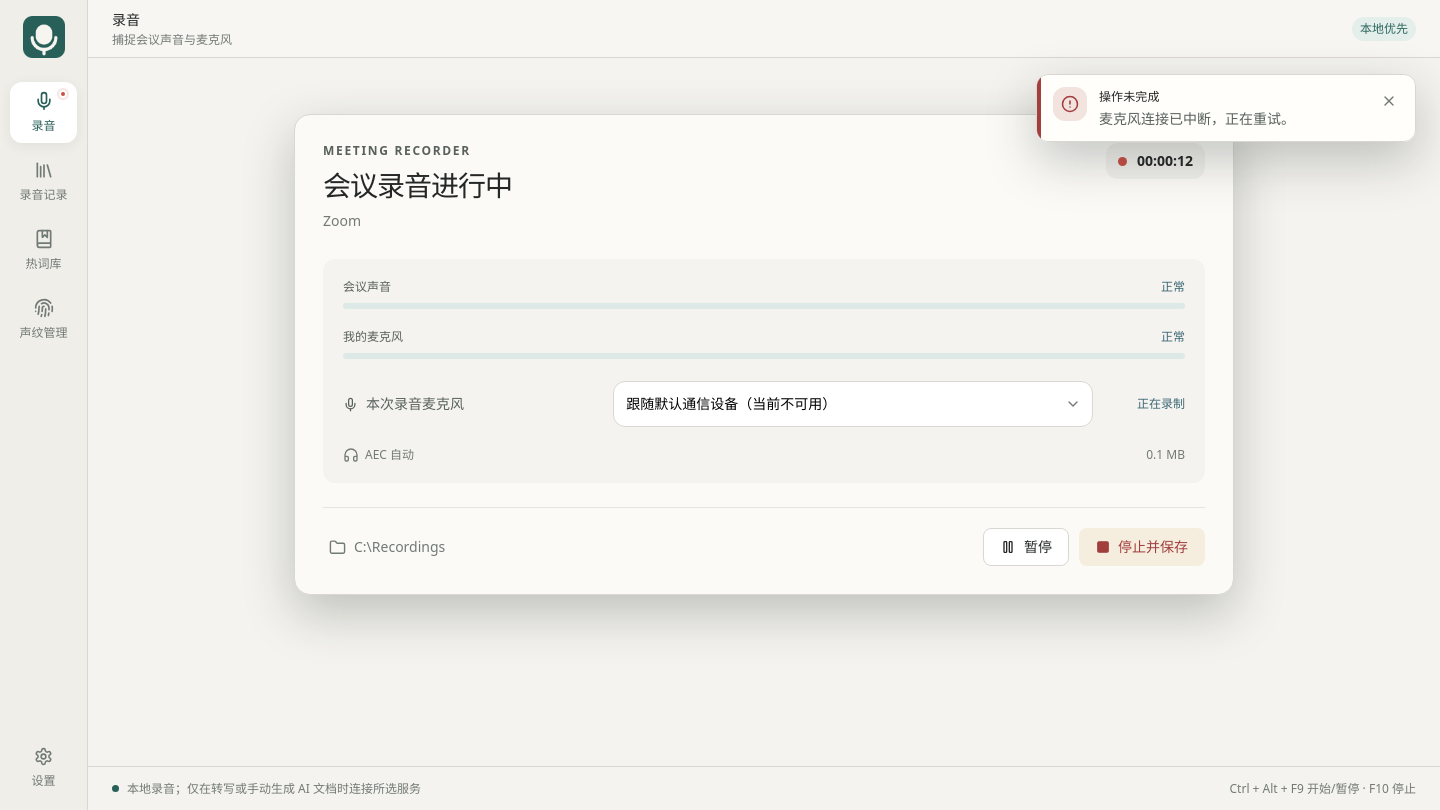
Test case: Nota UI states › shows and deduplicates persistent recording faults received at runtime
The image size is (1440, 810).
Expected: the message shows "麦克风连接已中断，正在重试。", [1099,109,1295,128]
Expected: the text "麦克风连接已中断，正在重试。" is shown once, [1099,109,1295,128]
Click the button named "关闭通知".
click(1389, 101)  # box [1375,87,1403,115]
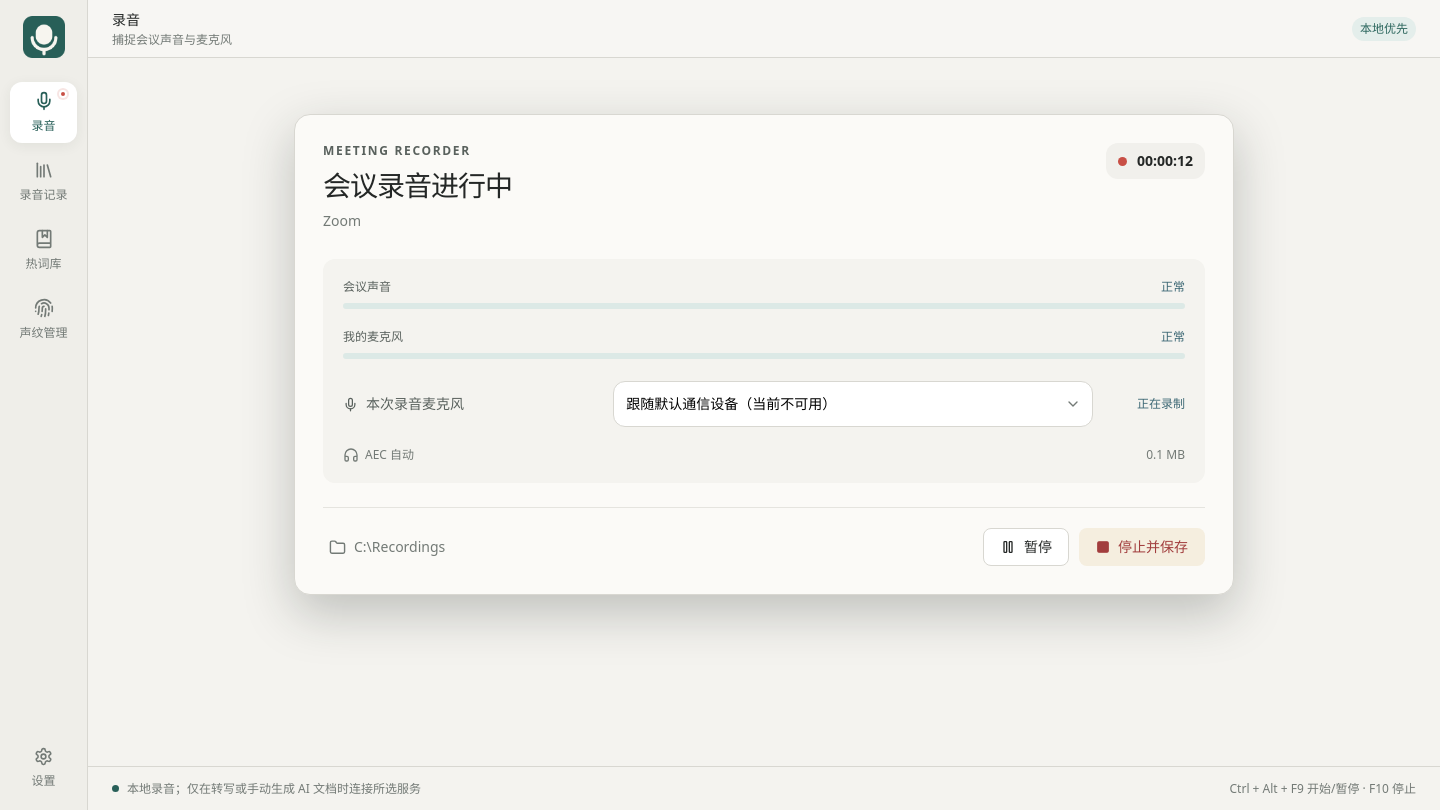
Expected: the text "麦克风连接已中断，正在重试。" is gone
